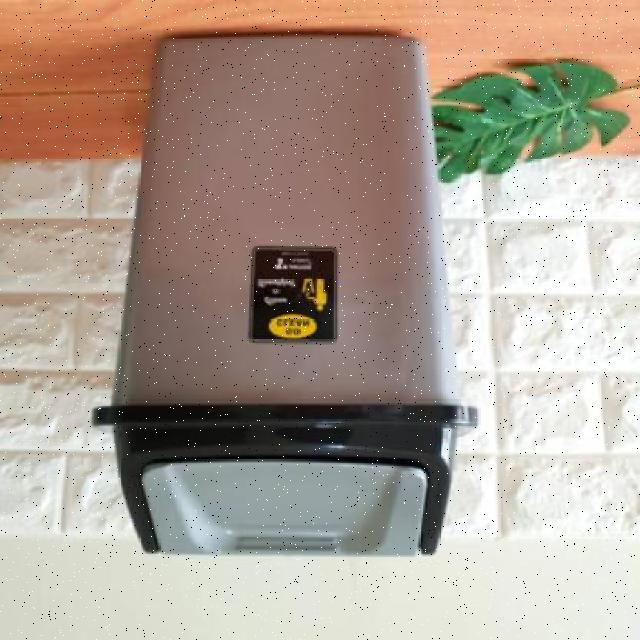garbage container: (86, 10, 489, 564)
